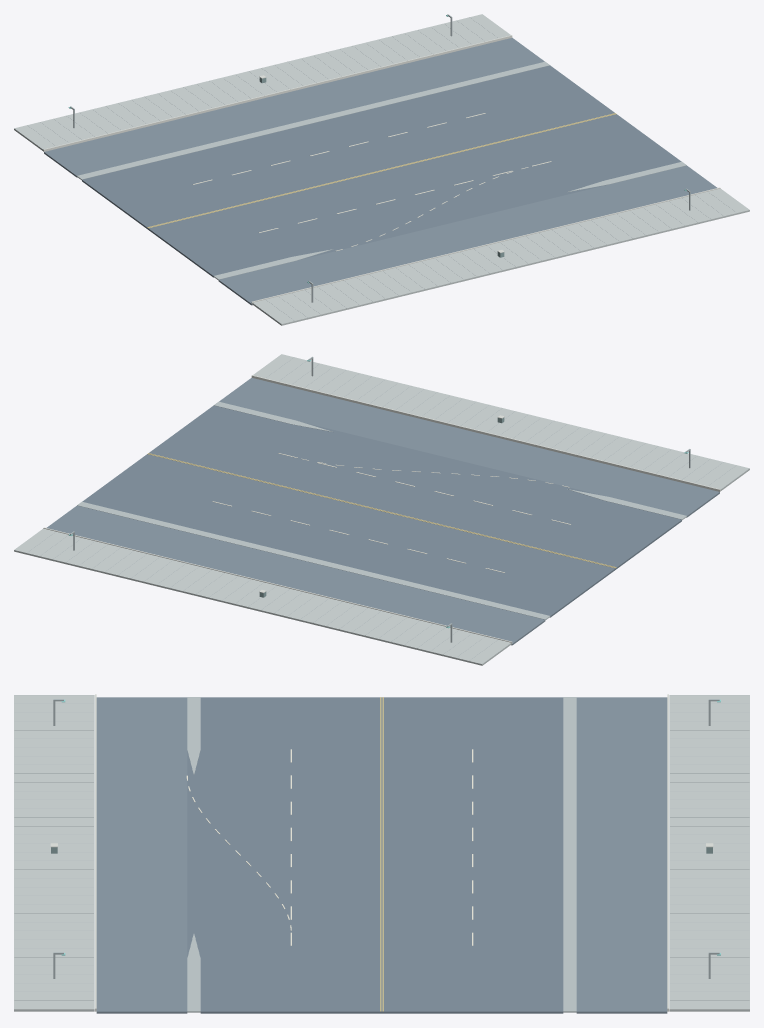
File: city-w88-s78.glb
3 renders of one model, top to bottom at view 1: azimuth 30°, elevation 25°; view 2: azimuth 150°, elevation 25°; view 3: azimuth 270°, elevation 25°, orthographic. The views are drawn at different scales.
Visible parts, largest first — view 1: Main_road, Frontage_roads, Sidewalk, Medians, Curbs, Paving_joints, Merge_surface, Center_lines; view 2: Main_road, Frontage_roads, Sidewalk, Medians, Curbs, Paving_joints, Merge_surface, Center_lines; view 3: Main_road, Frontage_roads, Sidewalk, Medians, Paving_joints, Merge_surface, Curbs, Center_lines.
Boxes of the visible parts, x1,y1,x2,y2 form: Main_road: [82, 65, 681, 277]; Frontage_roads: [44, 37, 717, 305]; Sidewalk: [14, 14, 749, 325]; Medians: [77, 61, 686, 280]; Curbs: [43, 35, 720, 303]; Paving_joints: [14, 17, 736, 323]; Merge_surface: [298, 182, 604, 260]; Center_lines: [147, 113, 616, 228]; Main_road: [82, 405, 681, 617]; Frontage_roads: [46, 377, 719, 645]; Sidewalk: [14, 354, 749, 665]; Medians: [77, 401, 686, 620]; Curbs: [43, 375, 720, 643]; Paving_joints: [27, 357, 749, 663]; Merge_surface: [293, 422, 600, 499]; Center_lines: [147, 453, 616, 568]; Main_road: [200, 697, 563, 1013]; Frontage_roads: [96, 697, 667, 1013]; Sidewalk: [14, 695, 749, 1011]; Medians: [187, 697, 576, 1012]; Paving_joints: [14, 695, 749, 1000]; Merge_surface: [187, 751, 200, 957]; Curbs: [95, 694, 668, 1011]; Center_lines: [380, 697, 383, 1011].
Bounding box in the file's own units: 72 × 3.26 × 71.25.
